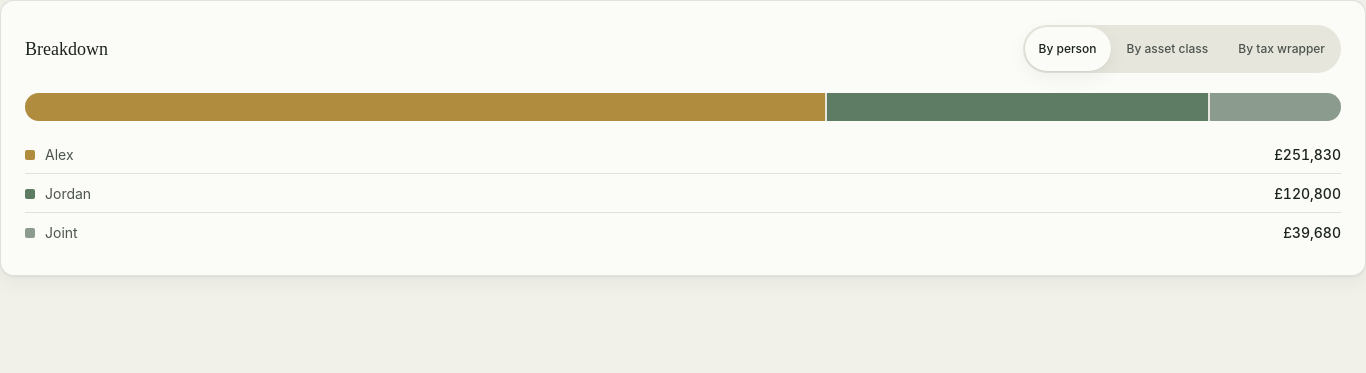
BreakdownPanel › can switch back, so the toggle is not one-way
Click the tab "By asset class". click: point(1167, 49)
box: [1112, 27, 1222, 71]
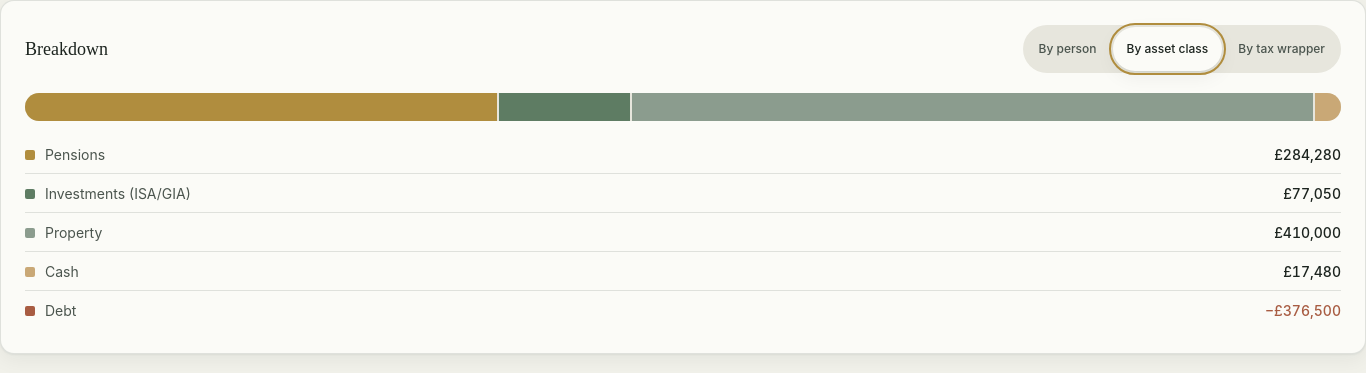
Click the tab "By person". click: point(1068, 49)
box: [1024, 27, 1110, 71]
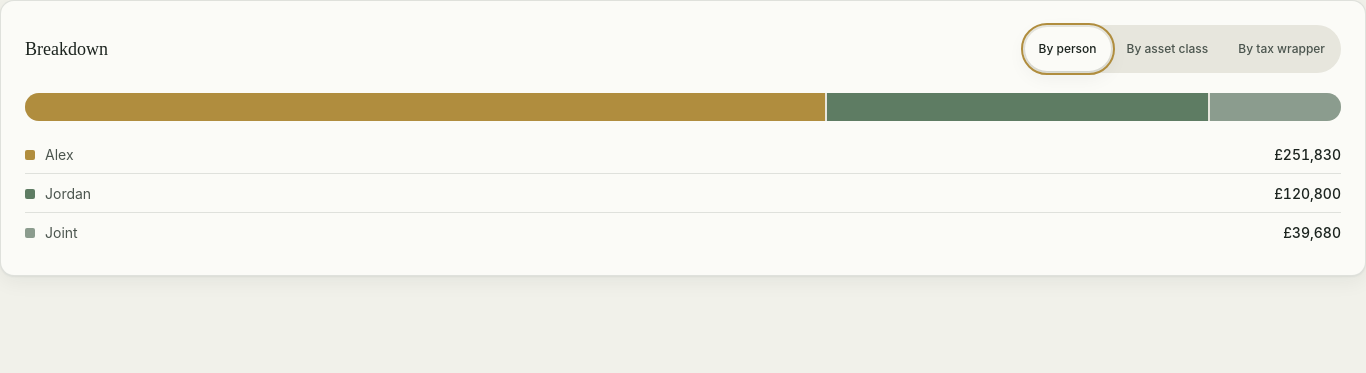
Expected: the text "Alex" is shown, [45, 146, 74, 163]
